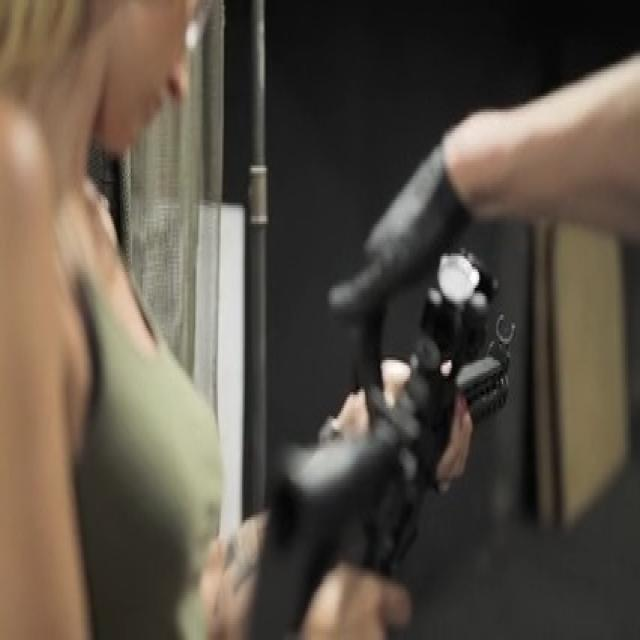Gun_Holder: (224, 260, 603, 640)
Person: (0, 0, 303, 640)
